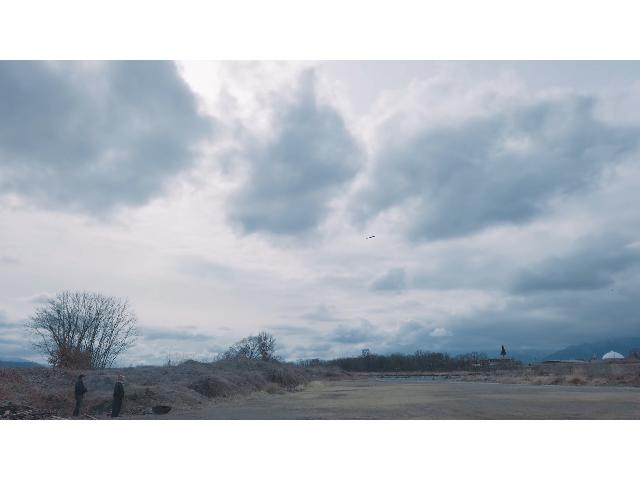Anti-Drone: (362, 234, 380, 240)
